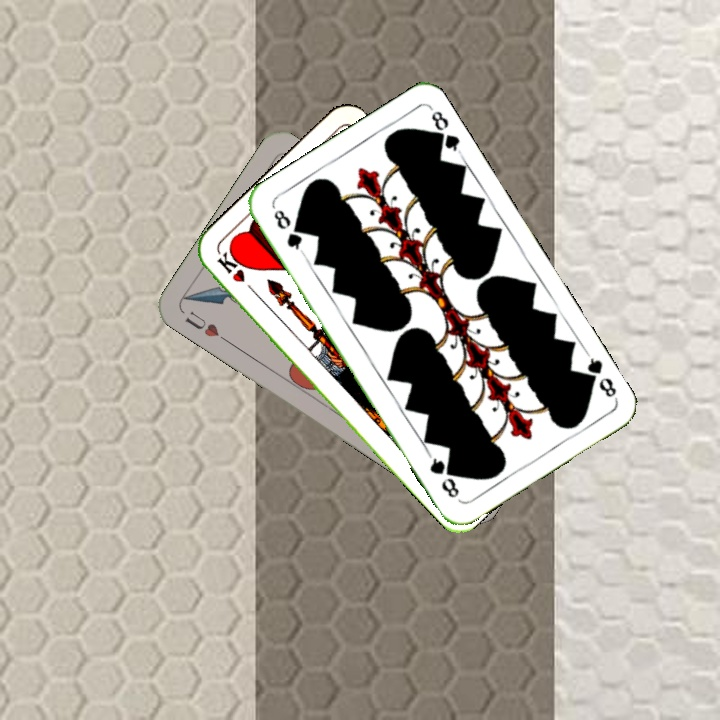G8: (578, 348, 620, 401), (269, 205, 307, 256)
HK: (213, 248, 260, 298)
HU: (180, 306, 231, 345)
